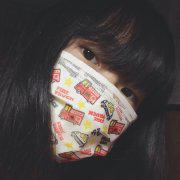OK: (35, 36, 147, 148)
